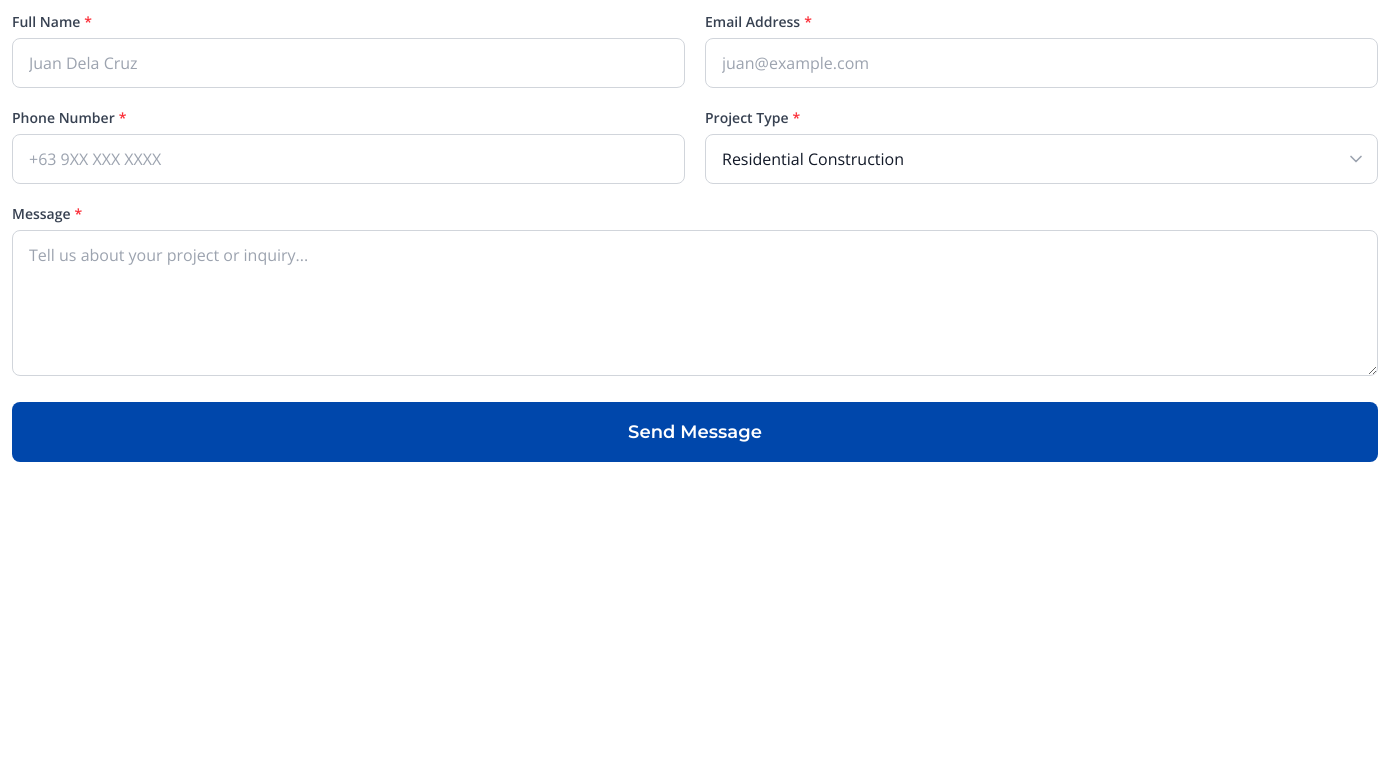
Test: ContactForm › Validation › shows error for invalid email
Type "not-an-email" into the field labelled "Email Address*" at (1042, 63), box [705, 38, 1378, 88]
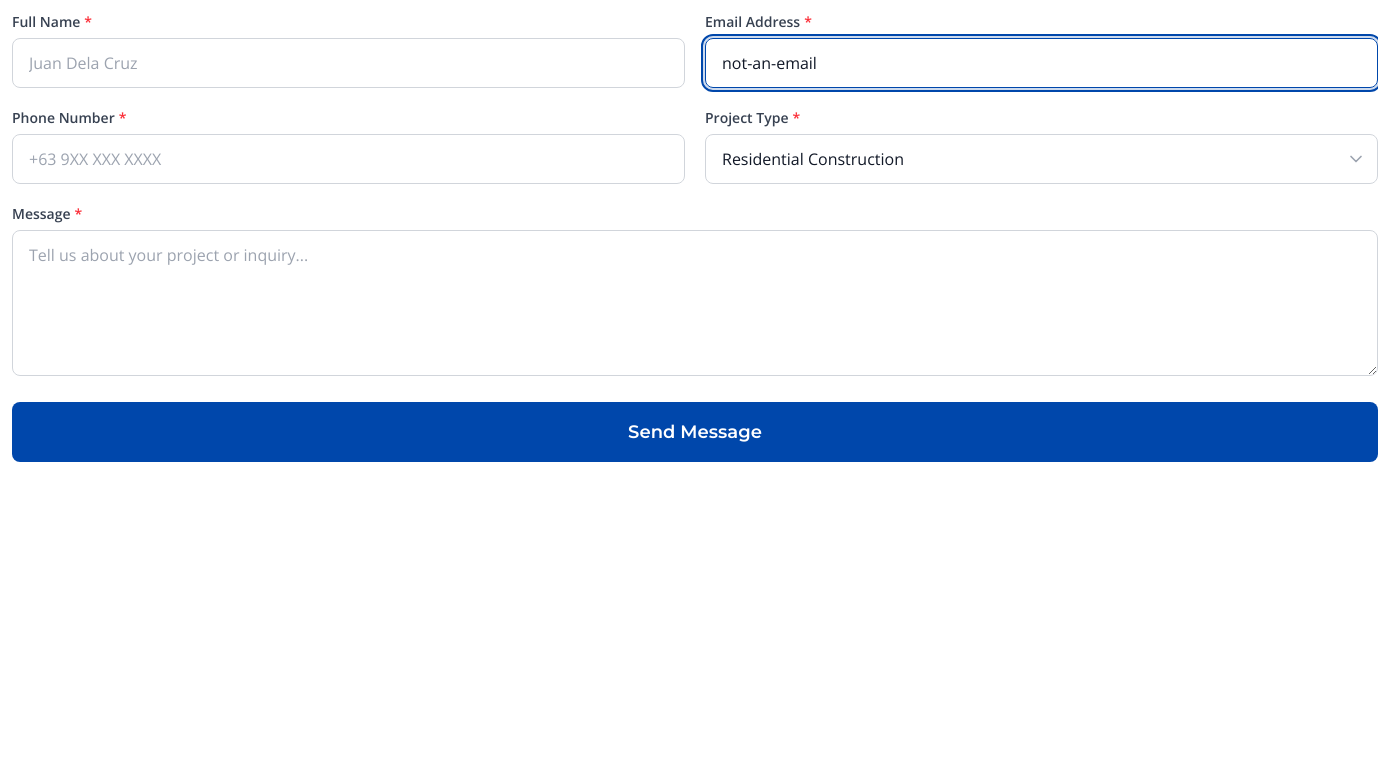
Click the button "Send Message" at (695, 432), box [12, 402, 1378, 462]
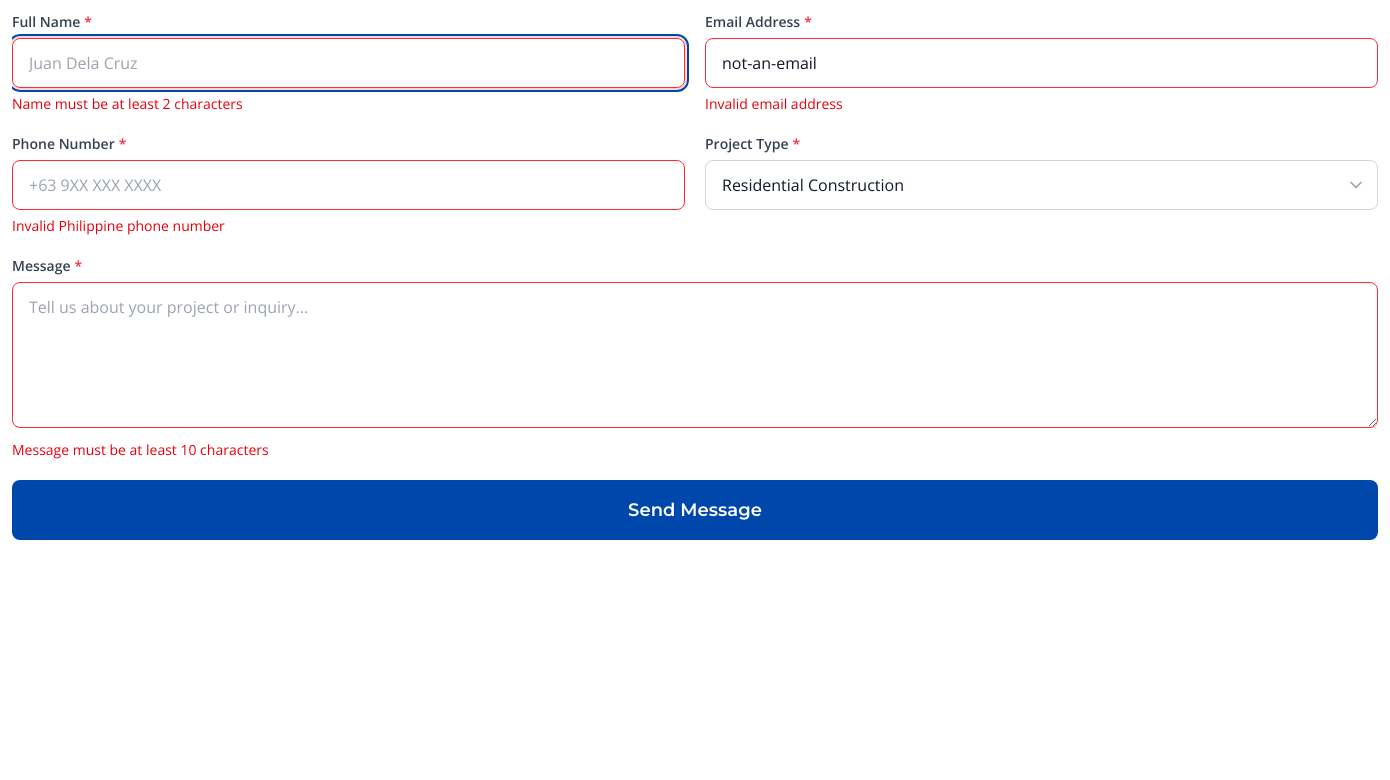
Now the text "Invalid email address" is shown, box [705, 94, 843, 113]
